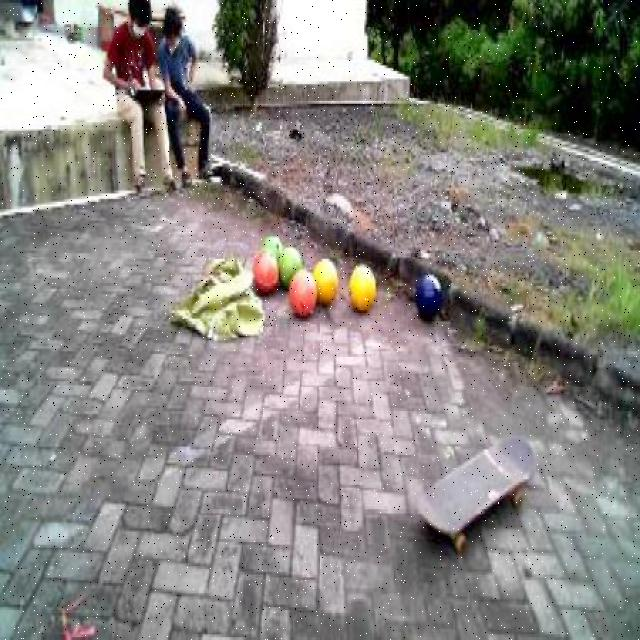buoy: (345, 253, 382, 316), (248, 238, 281, 304), (286, 262, 320, 324), (414, 268, 448, 328), (310, 251, 343, 308), (278, 238, 302, 288)
